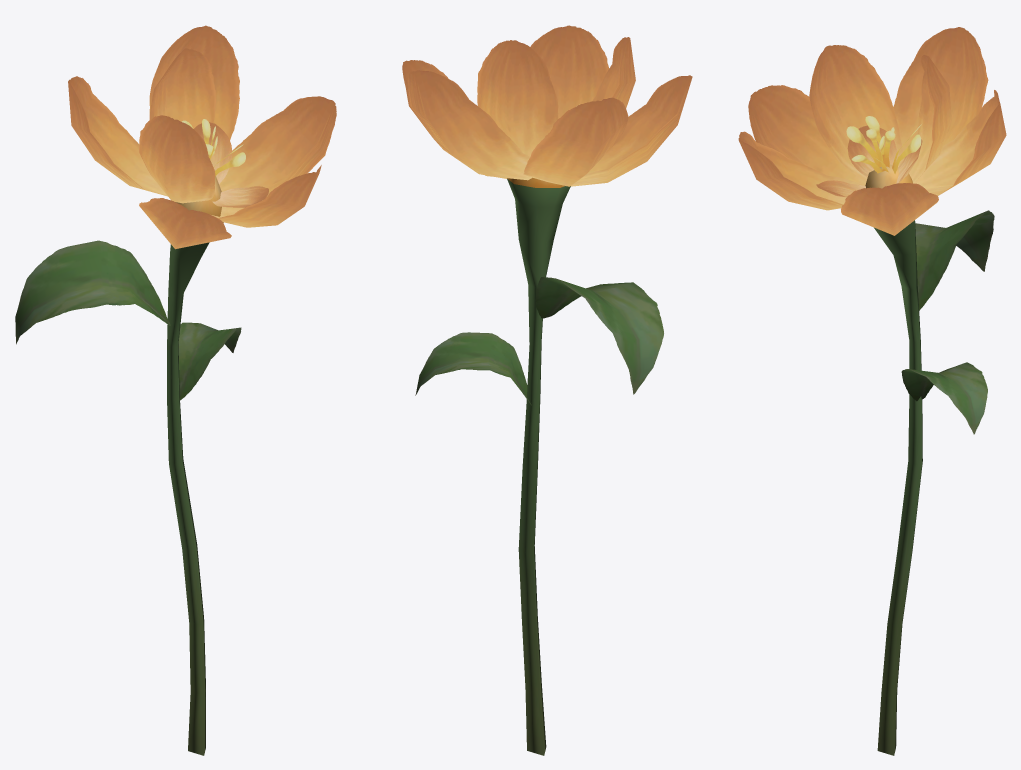
File: Homeworld_General_Common_Thing_Prop_Irodori_MainFlower_02_Vo.fbx
The picture shows the model from 3 angles, left to right: view 1: azimuth 30°, elevation 25°; view 2: azimuth 150°, elevation 25°; view 3: azimuth 270°, elevation 25°; orthographic projection. The views are drawn at different scales.
Visible parts, largest first — view 1: Homeworld_General_Common_Thing_Prop_Irodori_MainFlower_02_Vo; view 2: Homeworld_General_Common_Thing_Prop_Irodori_MainFlower_02_Vo; view 3: Homeworld_General_Common_Thing_Prop_Irodori_MainFlower_02_Vo.
Boxes of the visible parts, x1,y1,x2,y2 form: Homeworld_General_Common_Thing_Prop_Irodori_MainFlower_02_Vo: [15, 25, 336, 755]; Homeworld_General_Common_Thing_Prop_Irodori_MainFlower_02_Vo: [402, 25, 692, 755]; Homeworld_General_Common_Thing_Prop_Irodori_MainFlower_02_Vo: [738, 27, 1006, 755].
Size of the model in its own units: 0.1447 by 0.3443 by 0.1231.
1 material, 1 textured.
